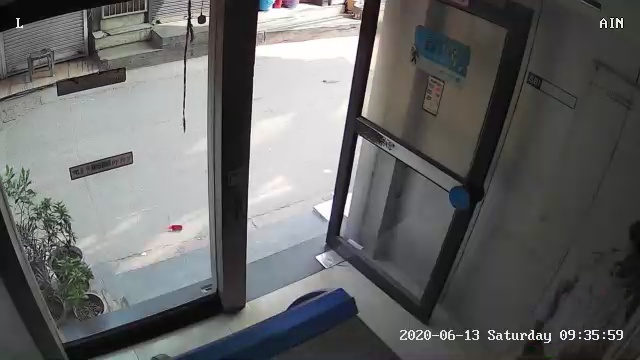open: (189, 4, 518, 334)
